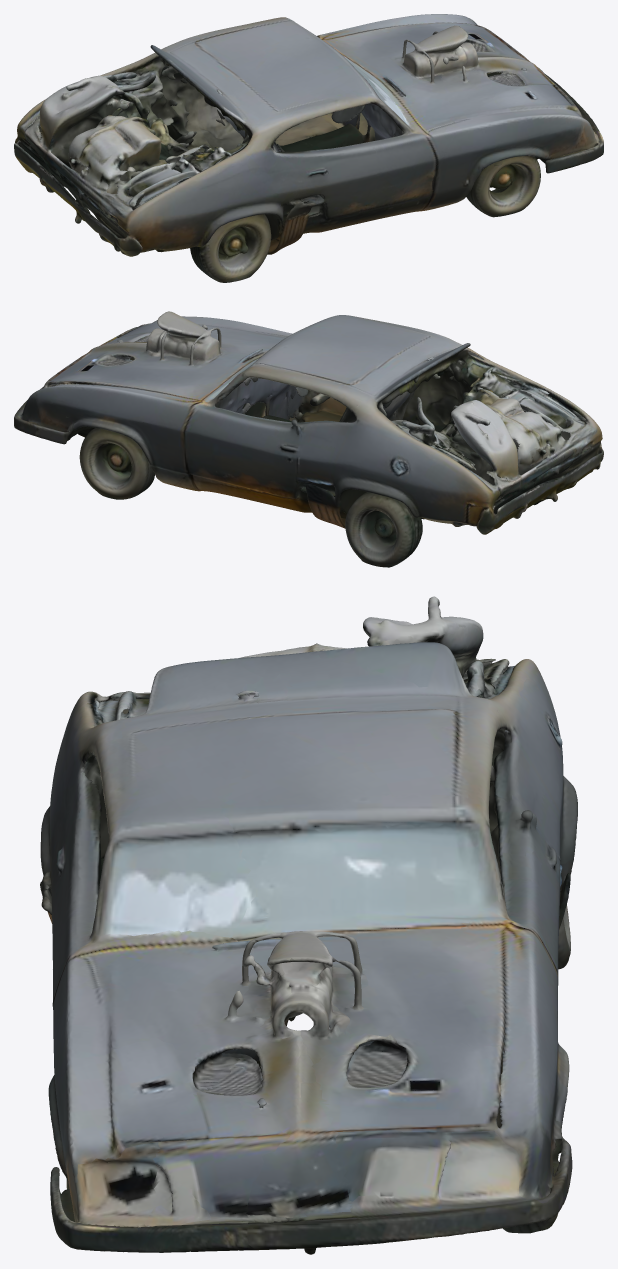
File: tripo-c39b3cde-8ea0-4b5a-a656-82a88b7304f1.glb
3 views of the same model, one above another, from view 1: azimuth 30°, elevation 25°; view 2: azimuth 150°, elevation 25°; view 3: azimuth 270°, elevation 25° (orthographic). The views are drawn at different scales.
Parts seen in each view (by area): view 1: tripo_node_9cc59d14-7dc8-40ed-be84-ea4faef11c22; view 2: tripo_node_9cc59d14-7dc8-40ed-be84-ea4faef11c22; view 3: tripo_node_9cc59d14-7dc8-40ed-be84-ea4faef11c22.
Boxes of the visible parts, left/top/right/bottom form: tripo_node_9cc59d14-7dc8-40ed-be84-ea4faef11c22: left=14, top=14, right=603, bottom=282; tripo_node_9cc59d14-7dc8-40ed-be84-ea4faef11c22: left=14, top=311, right=603, bottom=567; tripo_node_9cc59d14-7dc8-40ed-be84-ea4faef11c22: left=40, top=596, right=577, bottom=1254.
Size of the model in its own units: 1 by 0.3232 by 0.4716.
1 material, 1 textured.
